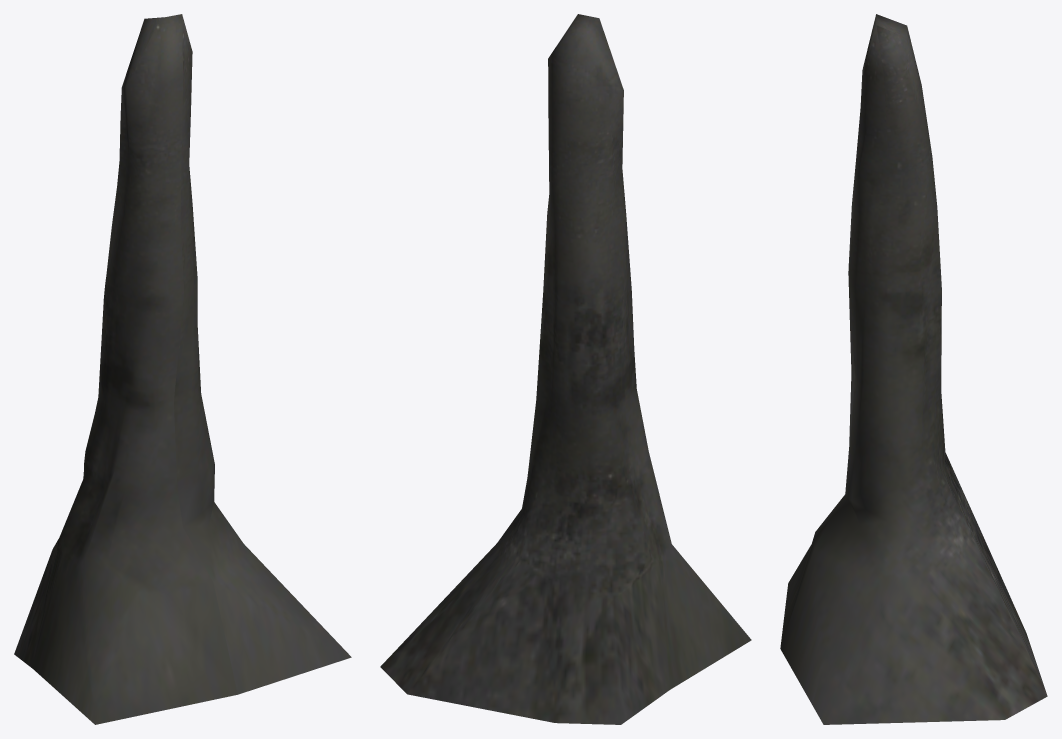
The model's file is rock_forest_stalgamite04.DAE.
The picture shows the model from 3 angles, left to right: view 1: azimuth 30°, elevation 25°; view 2: azimuth 150°, elevation 25°; view 3: azimuth 270°, elevation 25°; orthographic projection. The views are drawn at different scales.
Parts seen in each view (by area): view 1: Object004; view 2: Object004; view 3: Object004.
Part boxes in pixels (box(x1,y1,x2,y2)): Object004: box(14, 14, 351, 724); Object004: box(380, 14, 751, 724); Object004: box(780, 14, 1047, 724).
Bounding box in the file's own units: 0.9511 × 2.18 × 0.8317.
